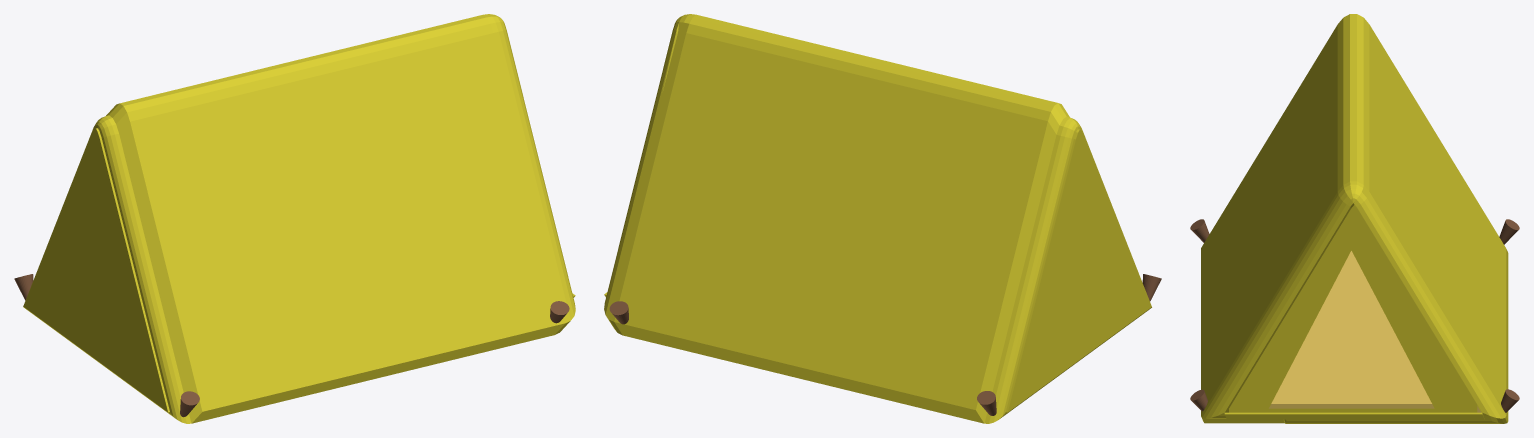
Rendered from Tenda 1.fbx.
3 renders of one model, left to right at view 1: azimuth 30°, elevation 25°; view 2: azimuth 150°, elevation 25°; view 3: azimuth 270°, elevation 25°, orthographic. The views are drawn at different scales.
Parts seen in each view (by area): view 1: Tenda, Pintu Belakang, Cube; view 2: Tenda, Pintu Belakang, Cube; view 3: Tenda, Cube.001, Alas.
Boxes of the visible parts, left/top/right/bottom form: Tenda: left=106, top=14, right=575, bottom=423; Pintu Belakang: left=23, top=128, right=169, bottom=412; Cube: left=23, top=115, right=191, bottom=423; Tenda: left=604, top=14, right=1069, bottom=423; Pintu Belakang: left=1006, top=129, right=1151, bottom=412; Cube: left=984, top=116, right=1151, bottom=423; Tenda: left=1201, top=14, right=1508, bottom=423; Cube.001: left=1229, top=205, right=1477, bottom=412; Alas: left=1269, top=251, right=1481, bottom=412.
Bounding box in the file's own units: 520 × 313 × 382.
